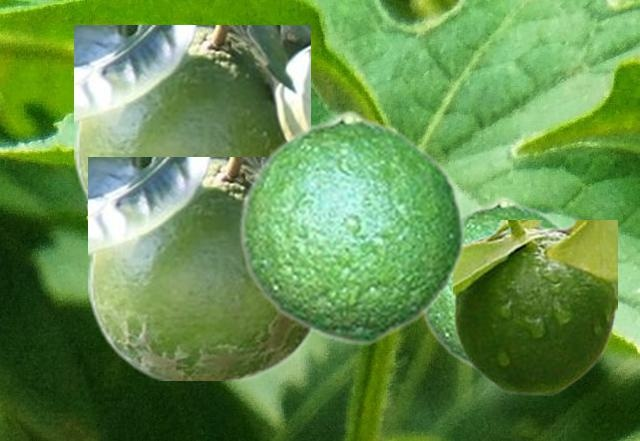dalandan: (237, 109, 465, 345), (88, 157, 312, 379), (74, 25, 309, 206), (453, 220, 616, 394), (420, 196, 565, 375)
